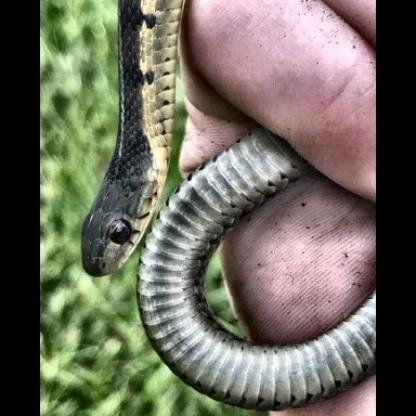Snake: (85, 1, 379, 400)
